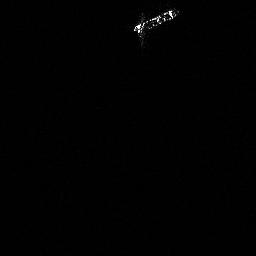ship: (130, 5, 180, 41)
